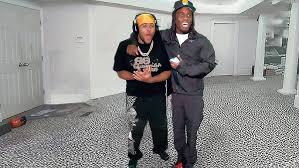kai-cenat: (172, 2, 196, 32)
